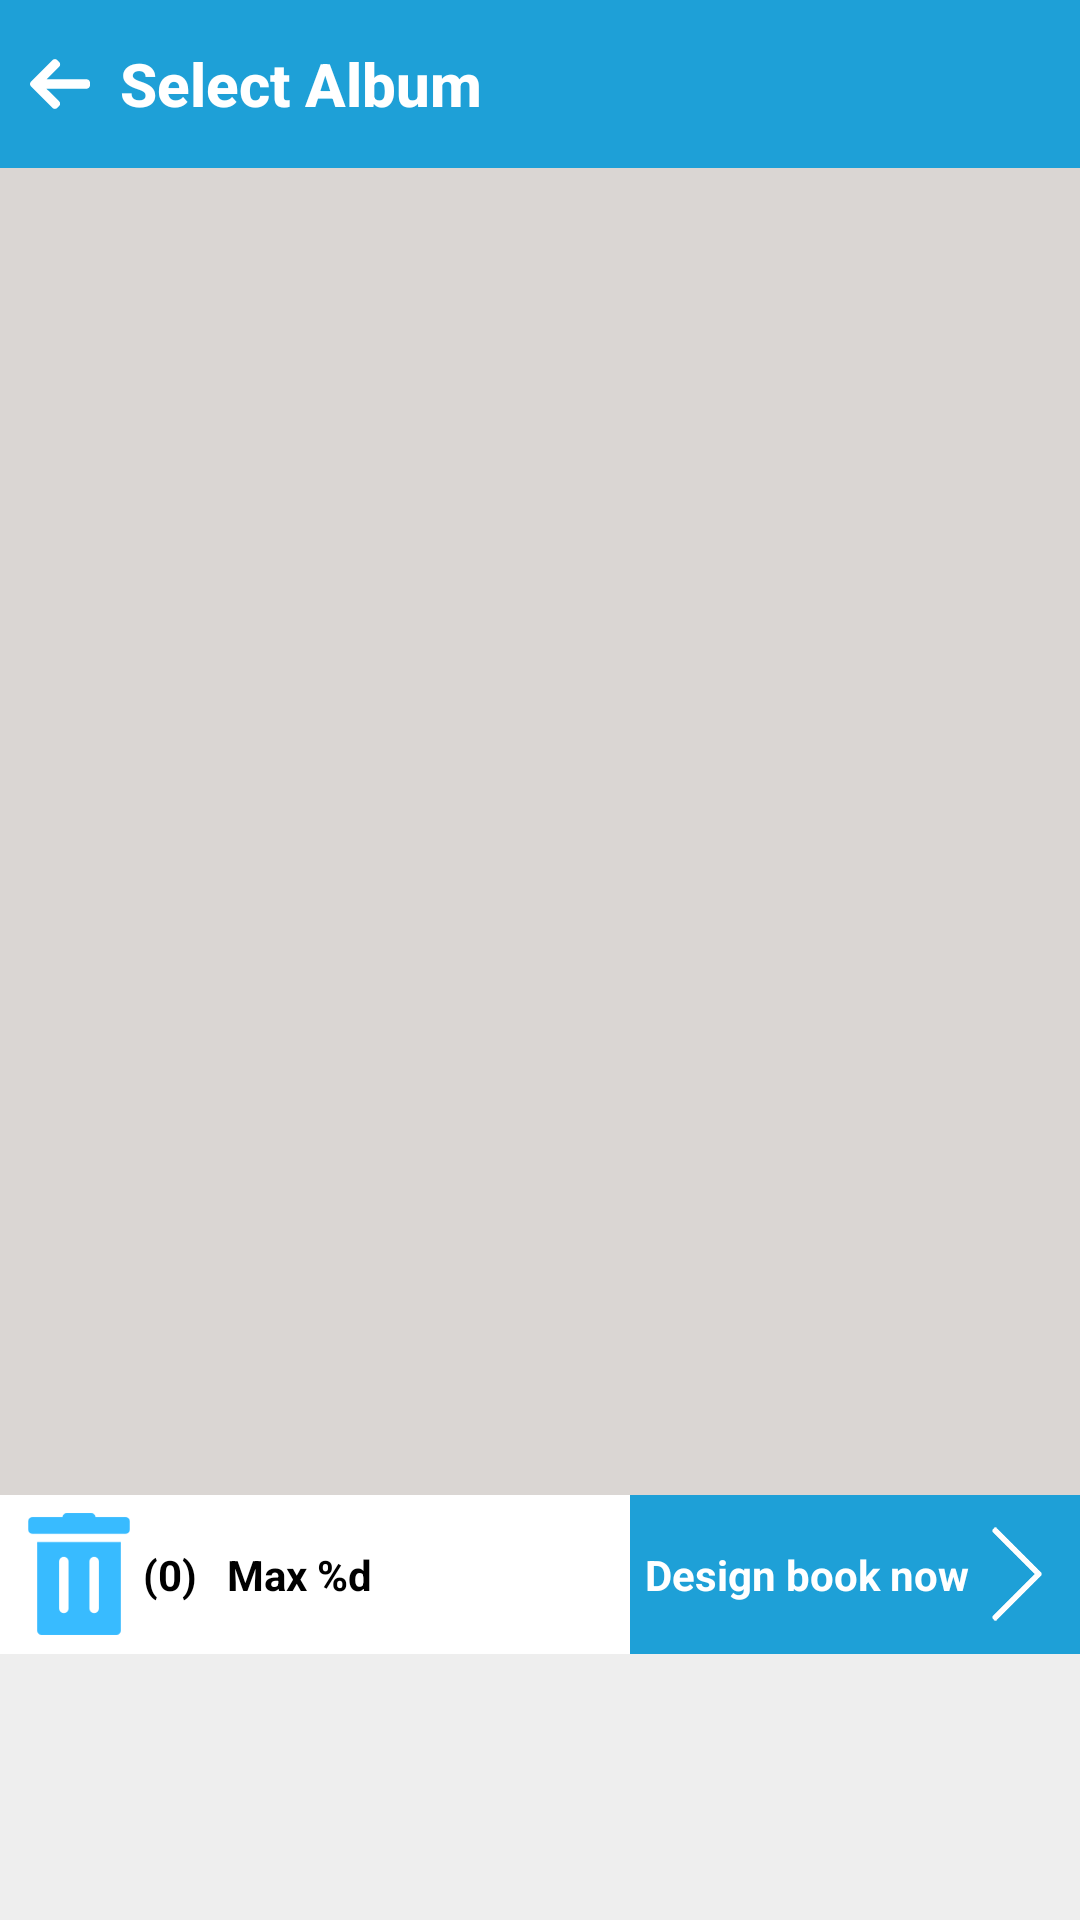

Screen size 1080*1920. Icon name, then its box in pixels as (x1, y1, x2, y2):
left arrow back: (30, 59, 90, 109)
